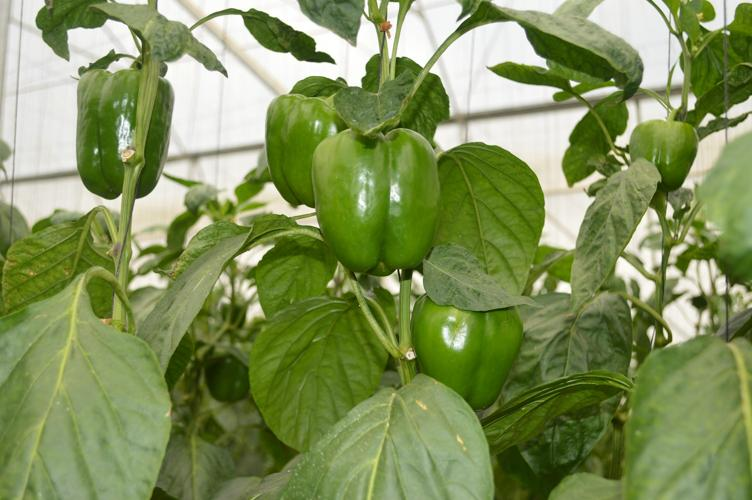BellPepper: (295, 112, 450, 287), (399, 280, 525, 415), (71, 64, 188, 205), (250, 80, 348, 208), (618, 110, 708, 198)
